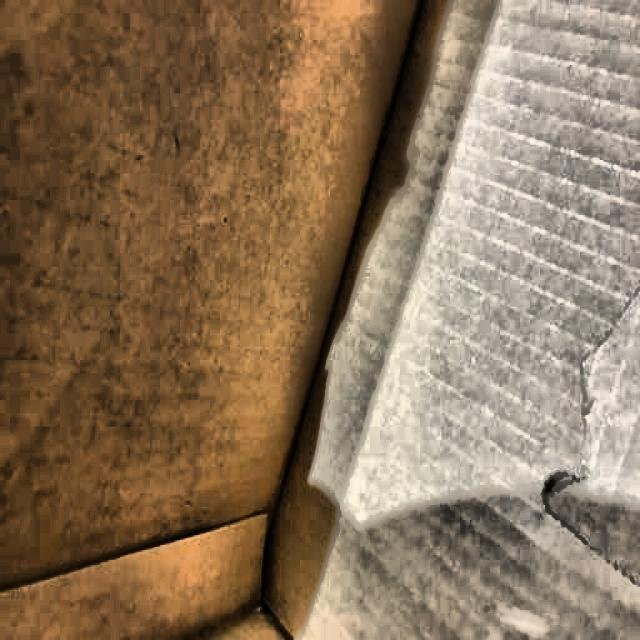cardboard: (4, 13, 349, 621)
